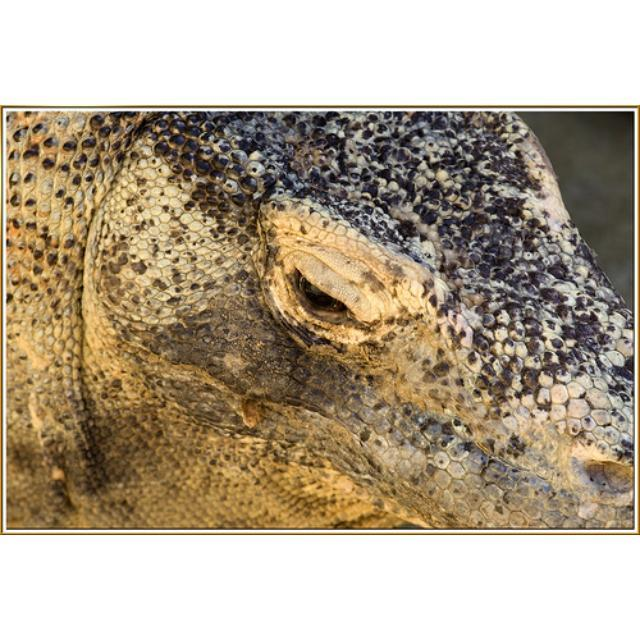KomodoDragon: (5, 112, 634, 529)
